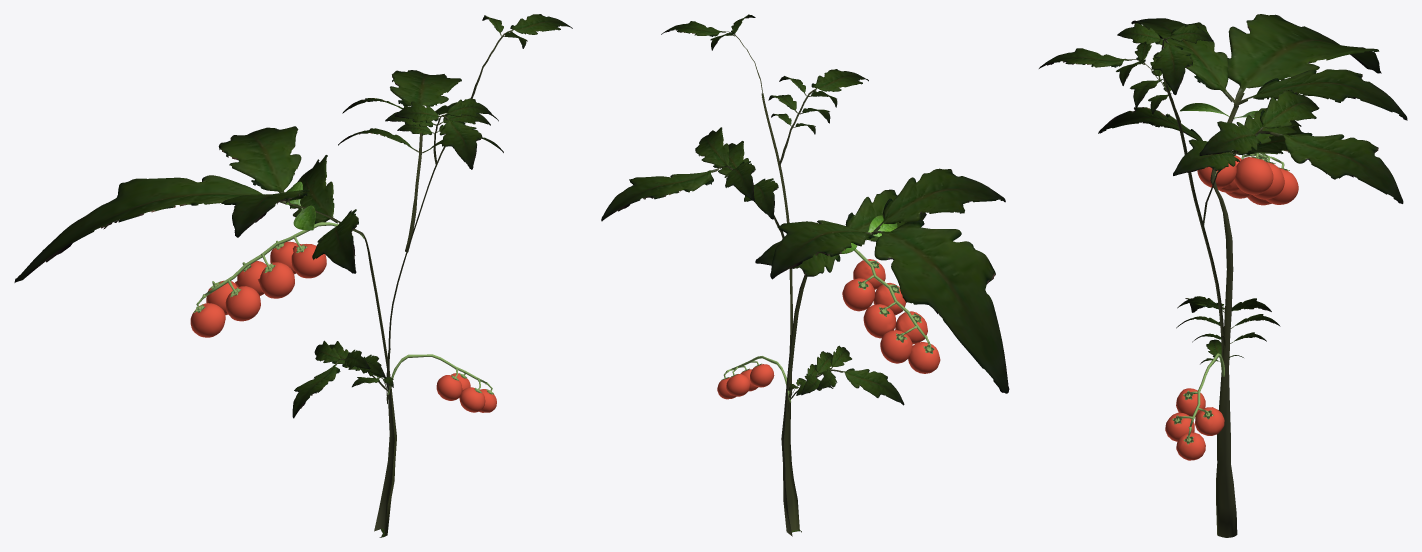
Rendered from tomato.glb.
3 renders of one model, left to right at view 1: azimuth 30°, elevation 25°; view 2: azimuth 150°, elevation 25°; view 3: azimuth 270°, elevation 25°, orthographic. The views are drawn at different scales.
Parts seen in each view (by area): view 1: Plant_Tomaat.001_Circle.149_LEAF, Plant_Tomaat.001_Circle.149_Tomaat_Rood, Plant_Tomaat.001_Circle.149_Material.002; view 2: Plant_Tomaat.001_Circle.149_LEAF, Plant_Tomaat.001_Circle.149_Tomaat_Rood, Plant_Tomaat.001_Circle.149_Material.002; view 3: Plant_Tomaat.001_Circle.149_LEAF, Plant_Tomaat.001_Circle.149_Tomaat_Rood, Plant_Tomaat.001_Circle.149_Material.002.
Boxes of the visible parts, x1,y1,x2,y2 form: Plant_Tomaat.001_Circle.149_LEAF: [14, 14, 572, 537]; Plant_Tomaat.001_Circle.149_Tomaat_Rood: [190, 241, 496, 412]; Plant_Tomaat.001_Circle.149_Material.002: [193, 221, 494, 394]; Plant_Tomaat.001_Circle.149_LEAF: [601, 14, 1009, 536]; Plant_Tomaat.001_Circle.149_Tomaat_Rood: [717, 259, 940, 399]; Plant_Tomaat.001_Circle.149_Material.002: [721, 249, 934, 402]; Plant_Tomaat.001_Circle.149_LEAF: [1039, 14, 1407, 537]; Plant_Tomaat.001_Circle.149_Tomaat_Rood: [1165, 155, 1298, 460]; Plant_Tomaat.001_Circle.149_Material.002: [1172, 151, 1289, 444].
Bounding box in the file's own units: 5.57 × 5.83 × 3.46.
Materials: 4 (2 with a texture image).
